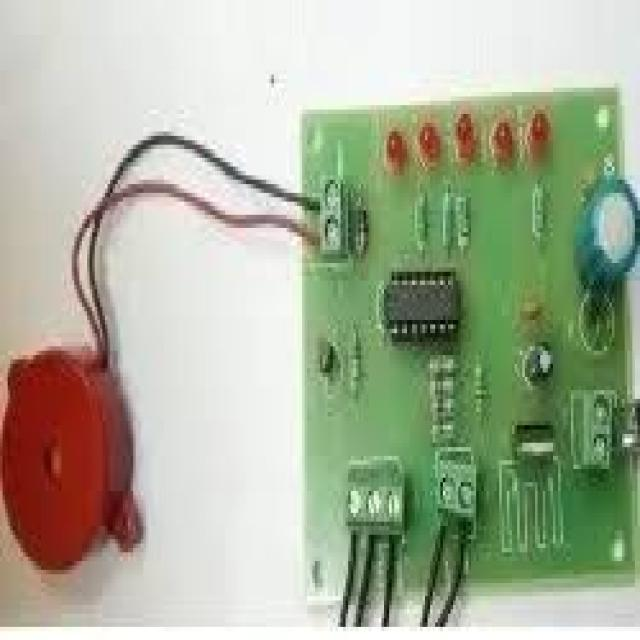pcb: (294, 83, 635, 610), (379, 263, 461, 346), (343, 451, 405, 535), (568, 386, 614, 473), (433, 443, 476, 526), (318, 171, 348, 259)
